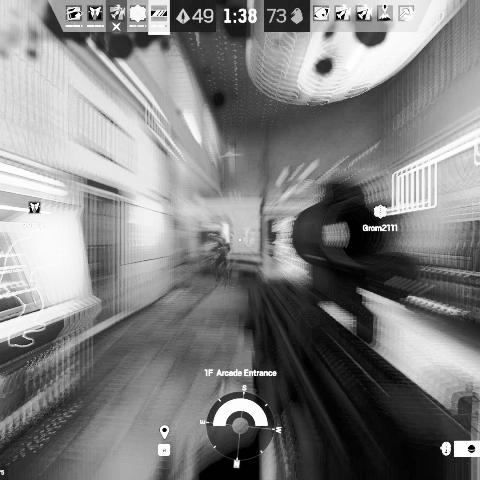Character: (208, 232, 232, 284)
Friend_label: (362, 204, 399, 232), (23, 200, 46, 230)
Head: (210, 234, 217, 242)
